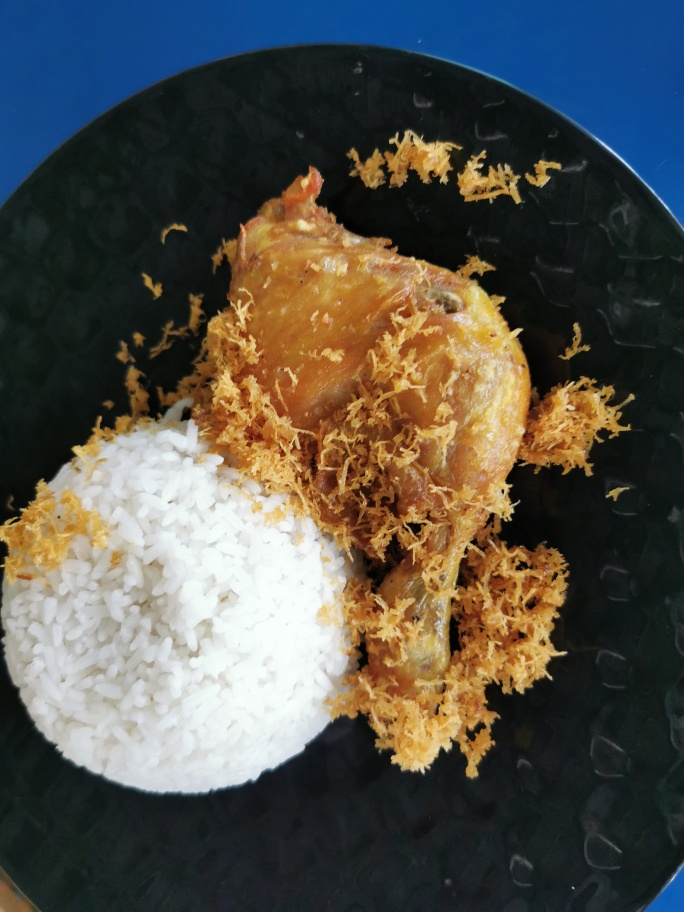ayam goreng: (191, 166, 570, 738)
nasi putih: (1, 409, 363, 804)
